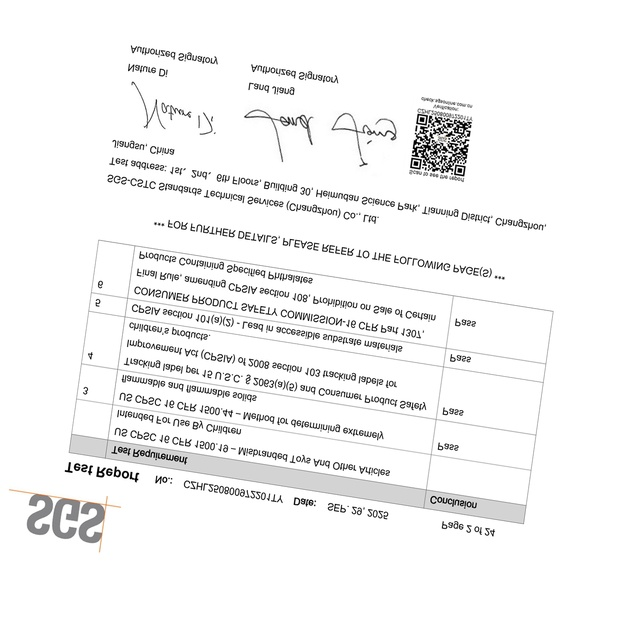sgs: (28, 492, 105, 544)
